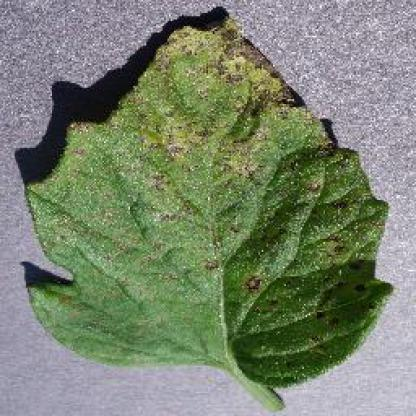bad leaf: (168, 97, 376, 228), (156, 0, 330, 138), (64, 180, 226, 326), (175, 204, 358, 330), (55, 66, 209, 213), (266, 366, 312, 388)
